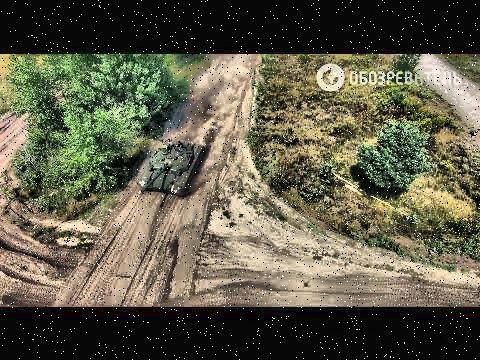military-vehicle: (136, 136, 205, 195)
